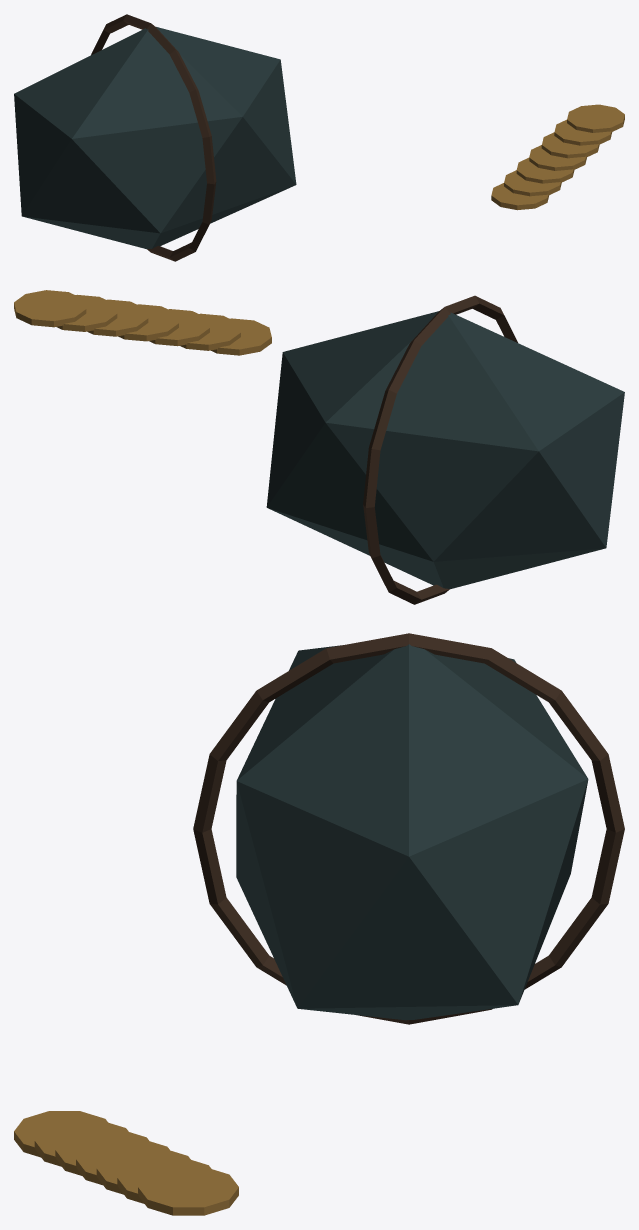
File: contents.glb
3 renders of one model, top to bottom at view 1: azimuth 30°, elevation 25°; view 2: azimuth 150°, elevation 25°; view 3: azimuth 270°, elevation 25°, orthographic. The views are drawn at different scales.
Parts seen in each view (by area): view 1: Cloth, Gold, Wood; view 2: Cloth, Gold, Wood; view 3: Cloth, Wood, Gold.
Boxes of the visible parts, x1=… form: Cloth: x1=14, y1=27, x2=296, y2=248; Gold: x1=491, y1=104, x2=624, y2=210; Wood: x1=91, y1=14, x2=216, y2=261; Cloth: x1=266, y1=311, x2=624, y2=588; Gold: x1=14, y1=290, x2=271, y2=355; Wood: x1=363, y1=295, x2=517, y2=604; Cloth: x1=236, y1=644, x2=588, y2=1020; Wood: x1=193, y1=633, x2=624, y2=1024; Gold: x1=14, y1=1111, x2=238, y2=1215.
Size of the model in its own units: 0.4579 by 0.188 by 0.266.
